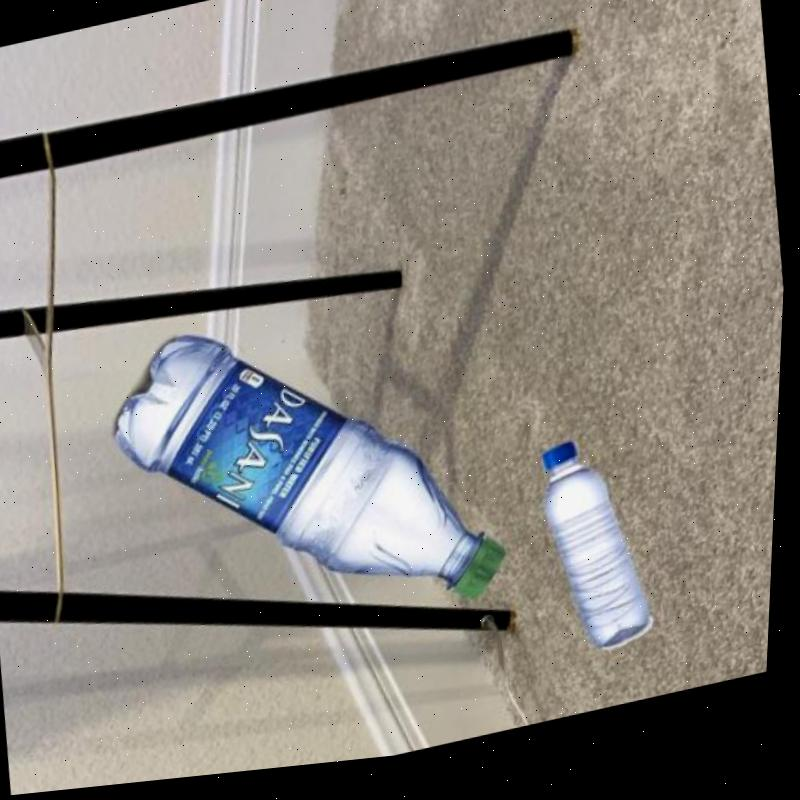botella: (95, 274, 526, 687), (529, 436, 667, 677)
